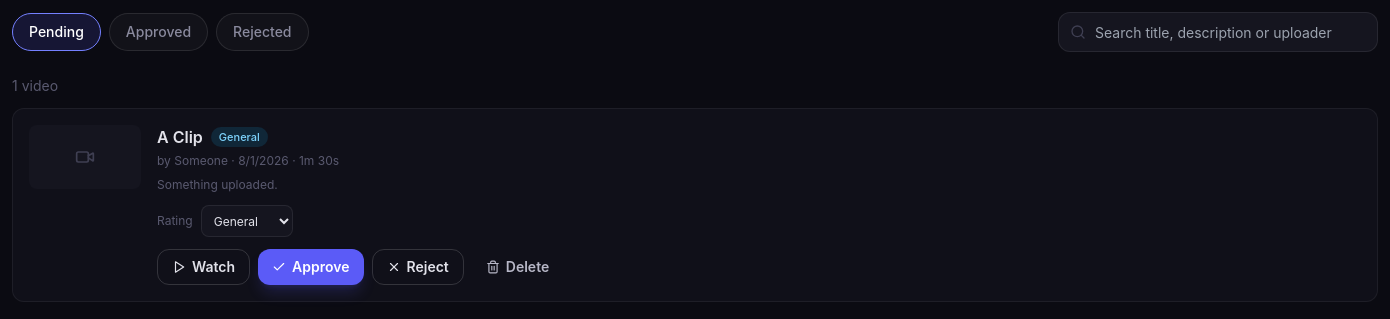
ModerationPanel › classification › warns what marking something adult actually does
Check: the heading "A Clip" is shown, box [157,125,203,149]
Select "Adult 18+" in the dropdown labelled "Rating" at (247, 221), box [201,205,293,237]
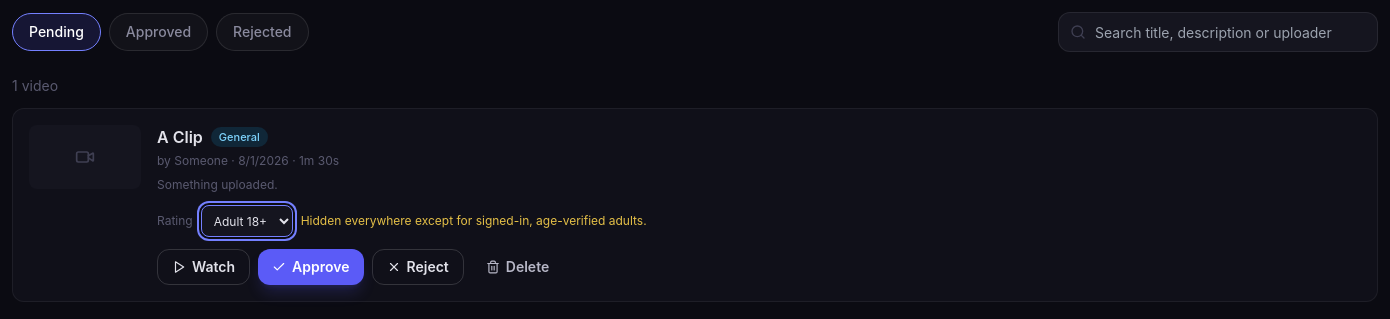
Check: the text "Hidden everywhere except for signed-in, age-verified adults." is shown, box [301,213,647,229]
